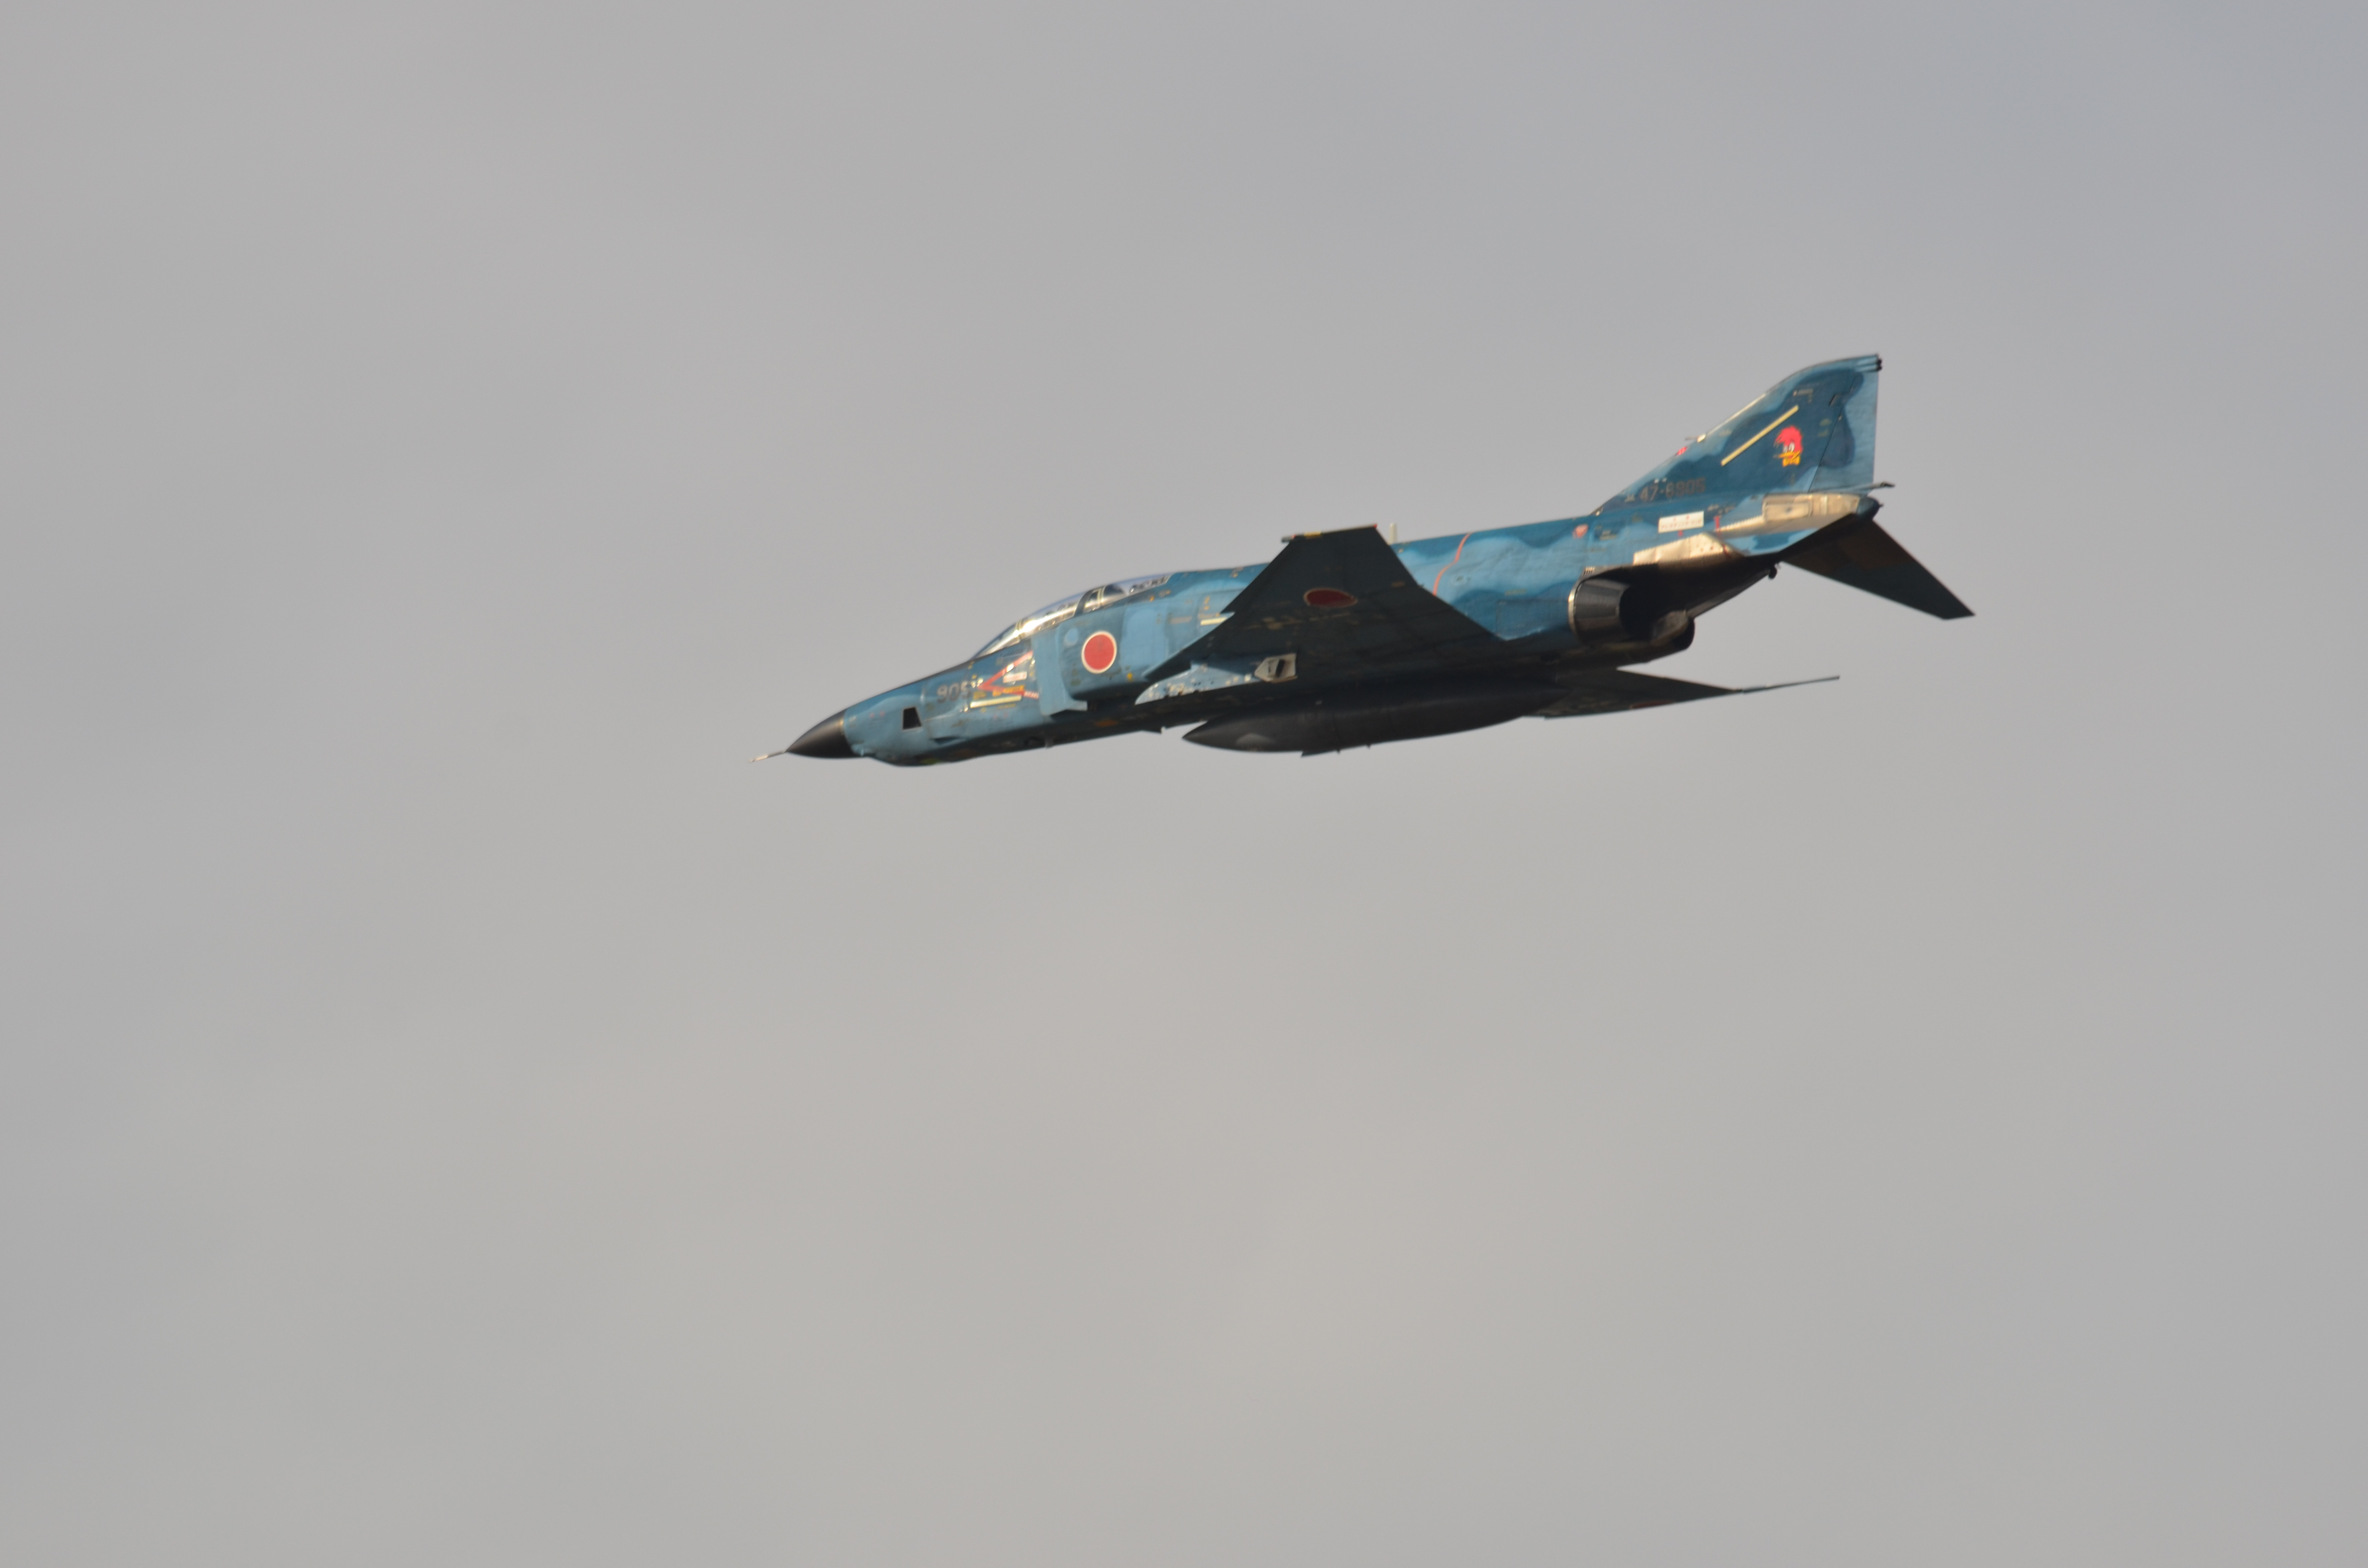F4: (747, 352, 1976, 768)
